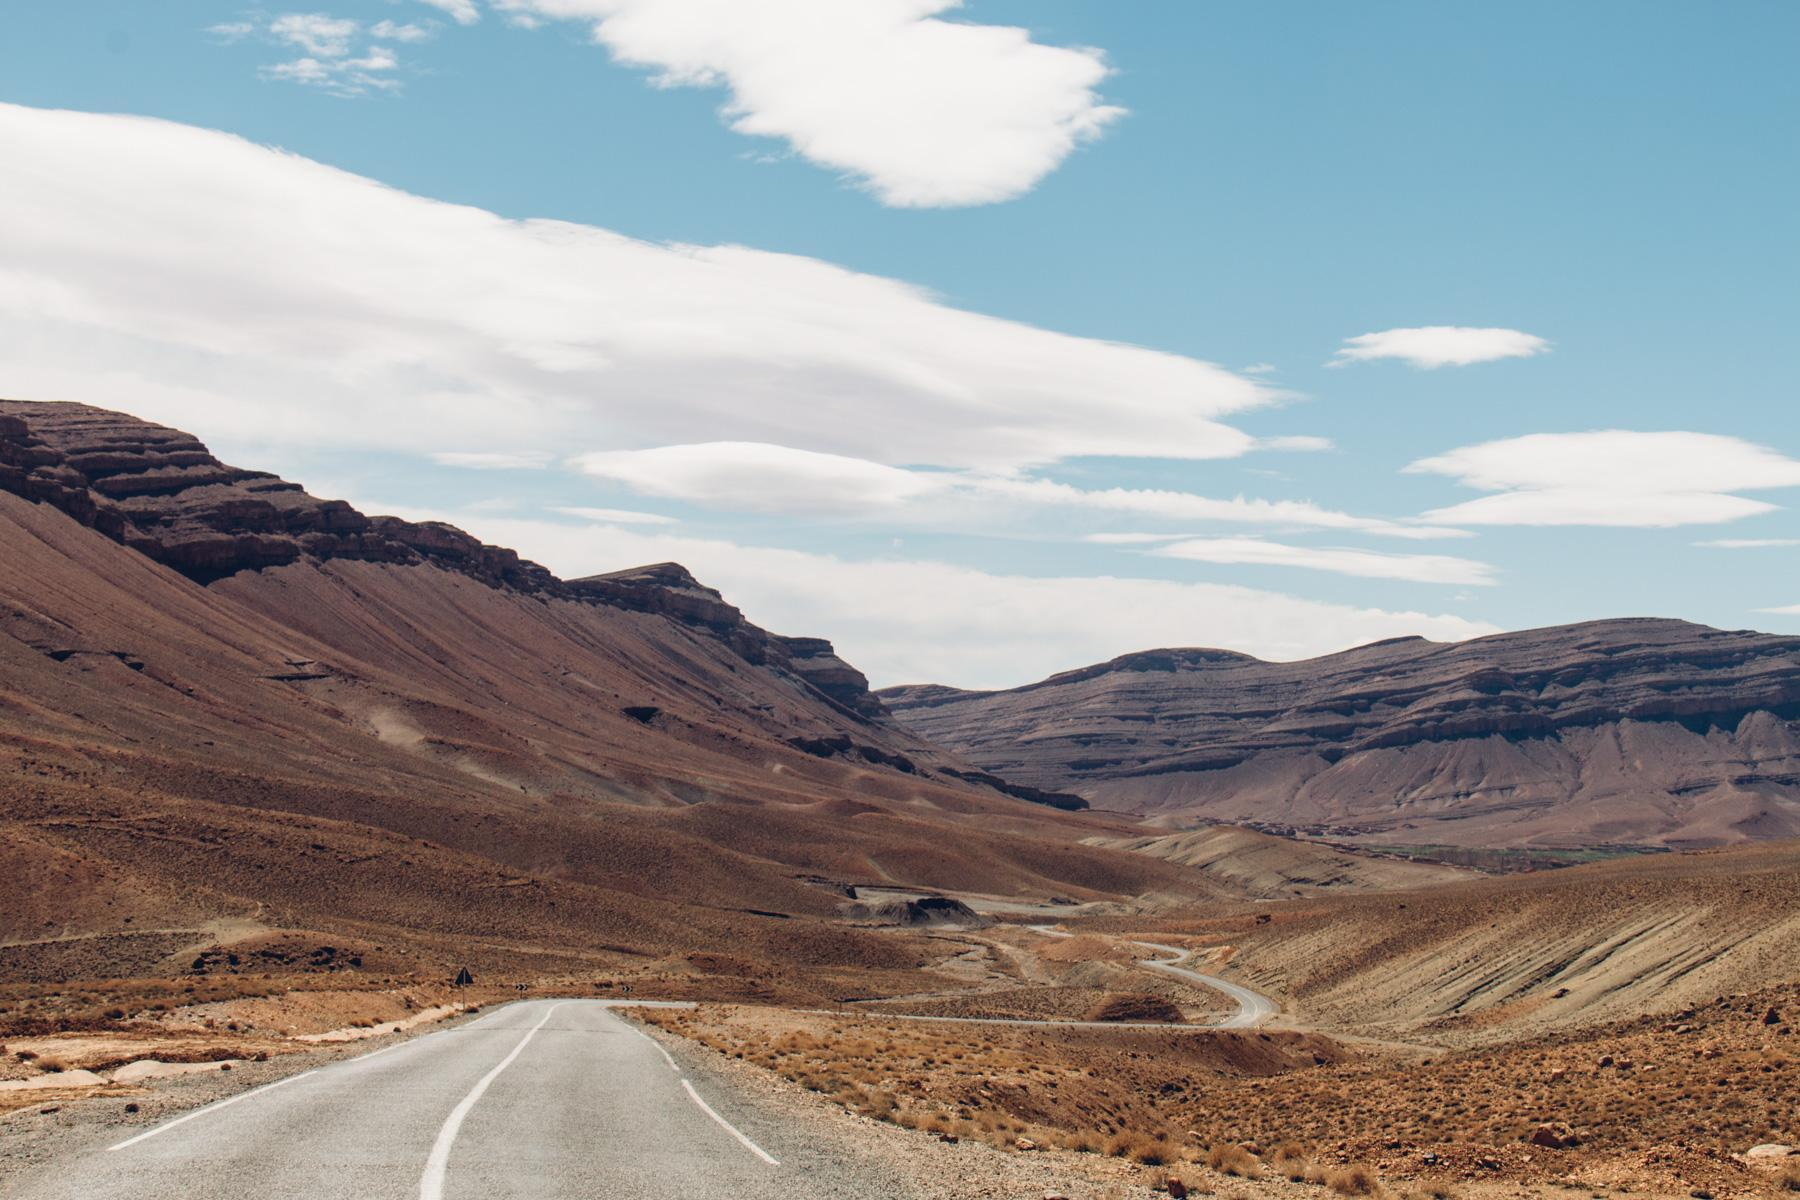cloud: (0, 5, 1254, 426), (1345, 289, 1800, 571)
